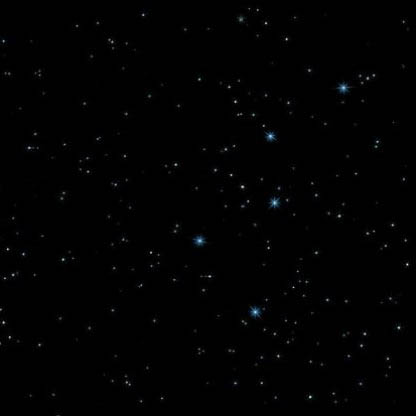Cassiopeia: (243, 298, 278, 327), (256, 120, 282, 150), (331, 75, 355, 102), (263, 191, 288, 216), (189, 230, 211, 250)
